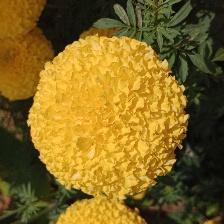marigold: (23, 42, 195, 200)
